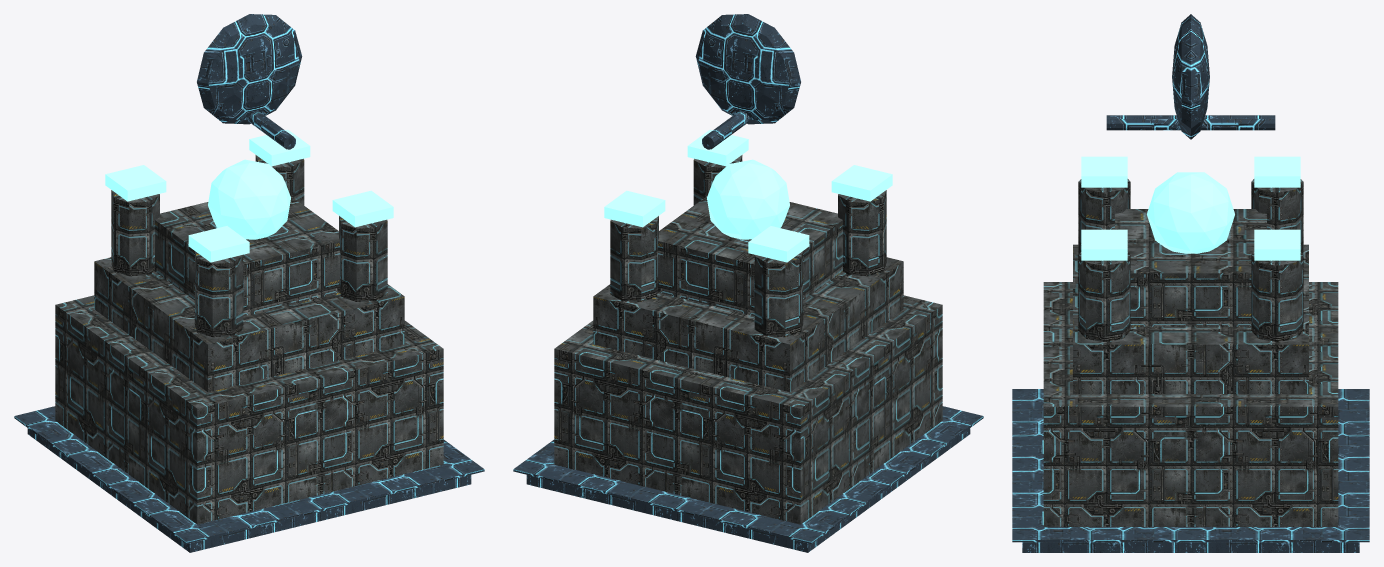
The model's file is frt-002.glb.
3 renders of one model, left to right at view 1: azimuth 30°, elevation 25°; view 2: azimuth 150°, elevation 25°; view 3: azimuth 270°, elevation 25°, orthographic. The views are drawn at different scales.
Parts seen in each view (by area): view 1: FRT002_CommandCore; view 2: FRT002_CommandCore; view 3: FRT002_CommandCore.
Boxes of the visible parts, x1,y1,x2,y2 form: FRT002_CommandCore: (14,14,484,552); FRT002_CommandCore: (513,14,983,552); FRT002_CommandCore: (1012,14,1369,552).
Size of the model in its own units: 8.48 by 12.1 by 8.48.
3 materials, 2 textured.
